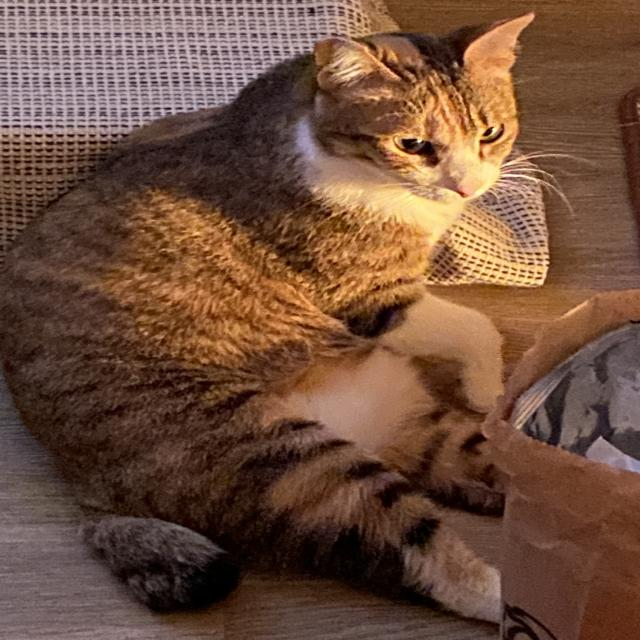cat2: (0, 8, 544, 620)
